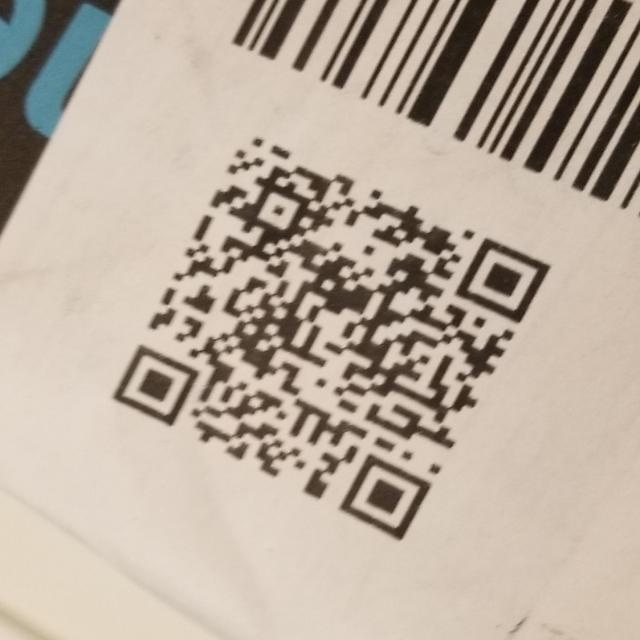qr-code: (95, 126, 570, 559)
